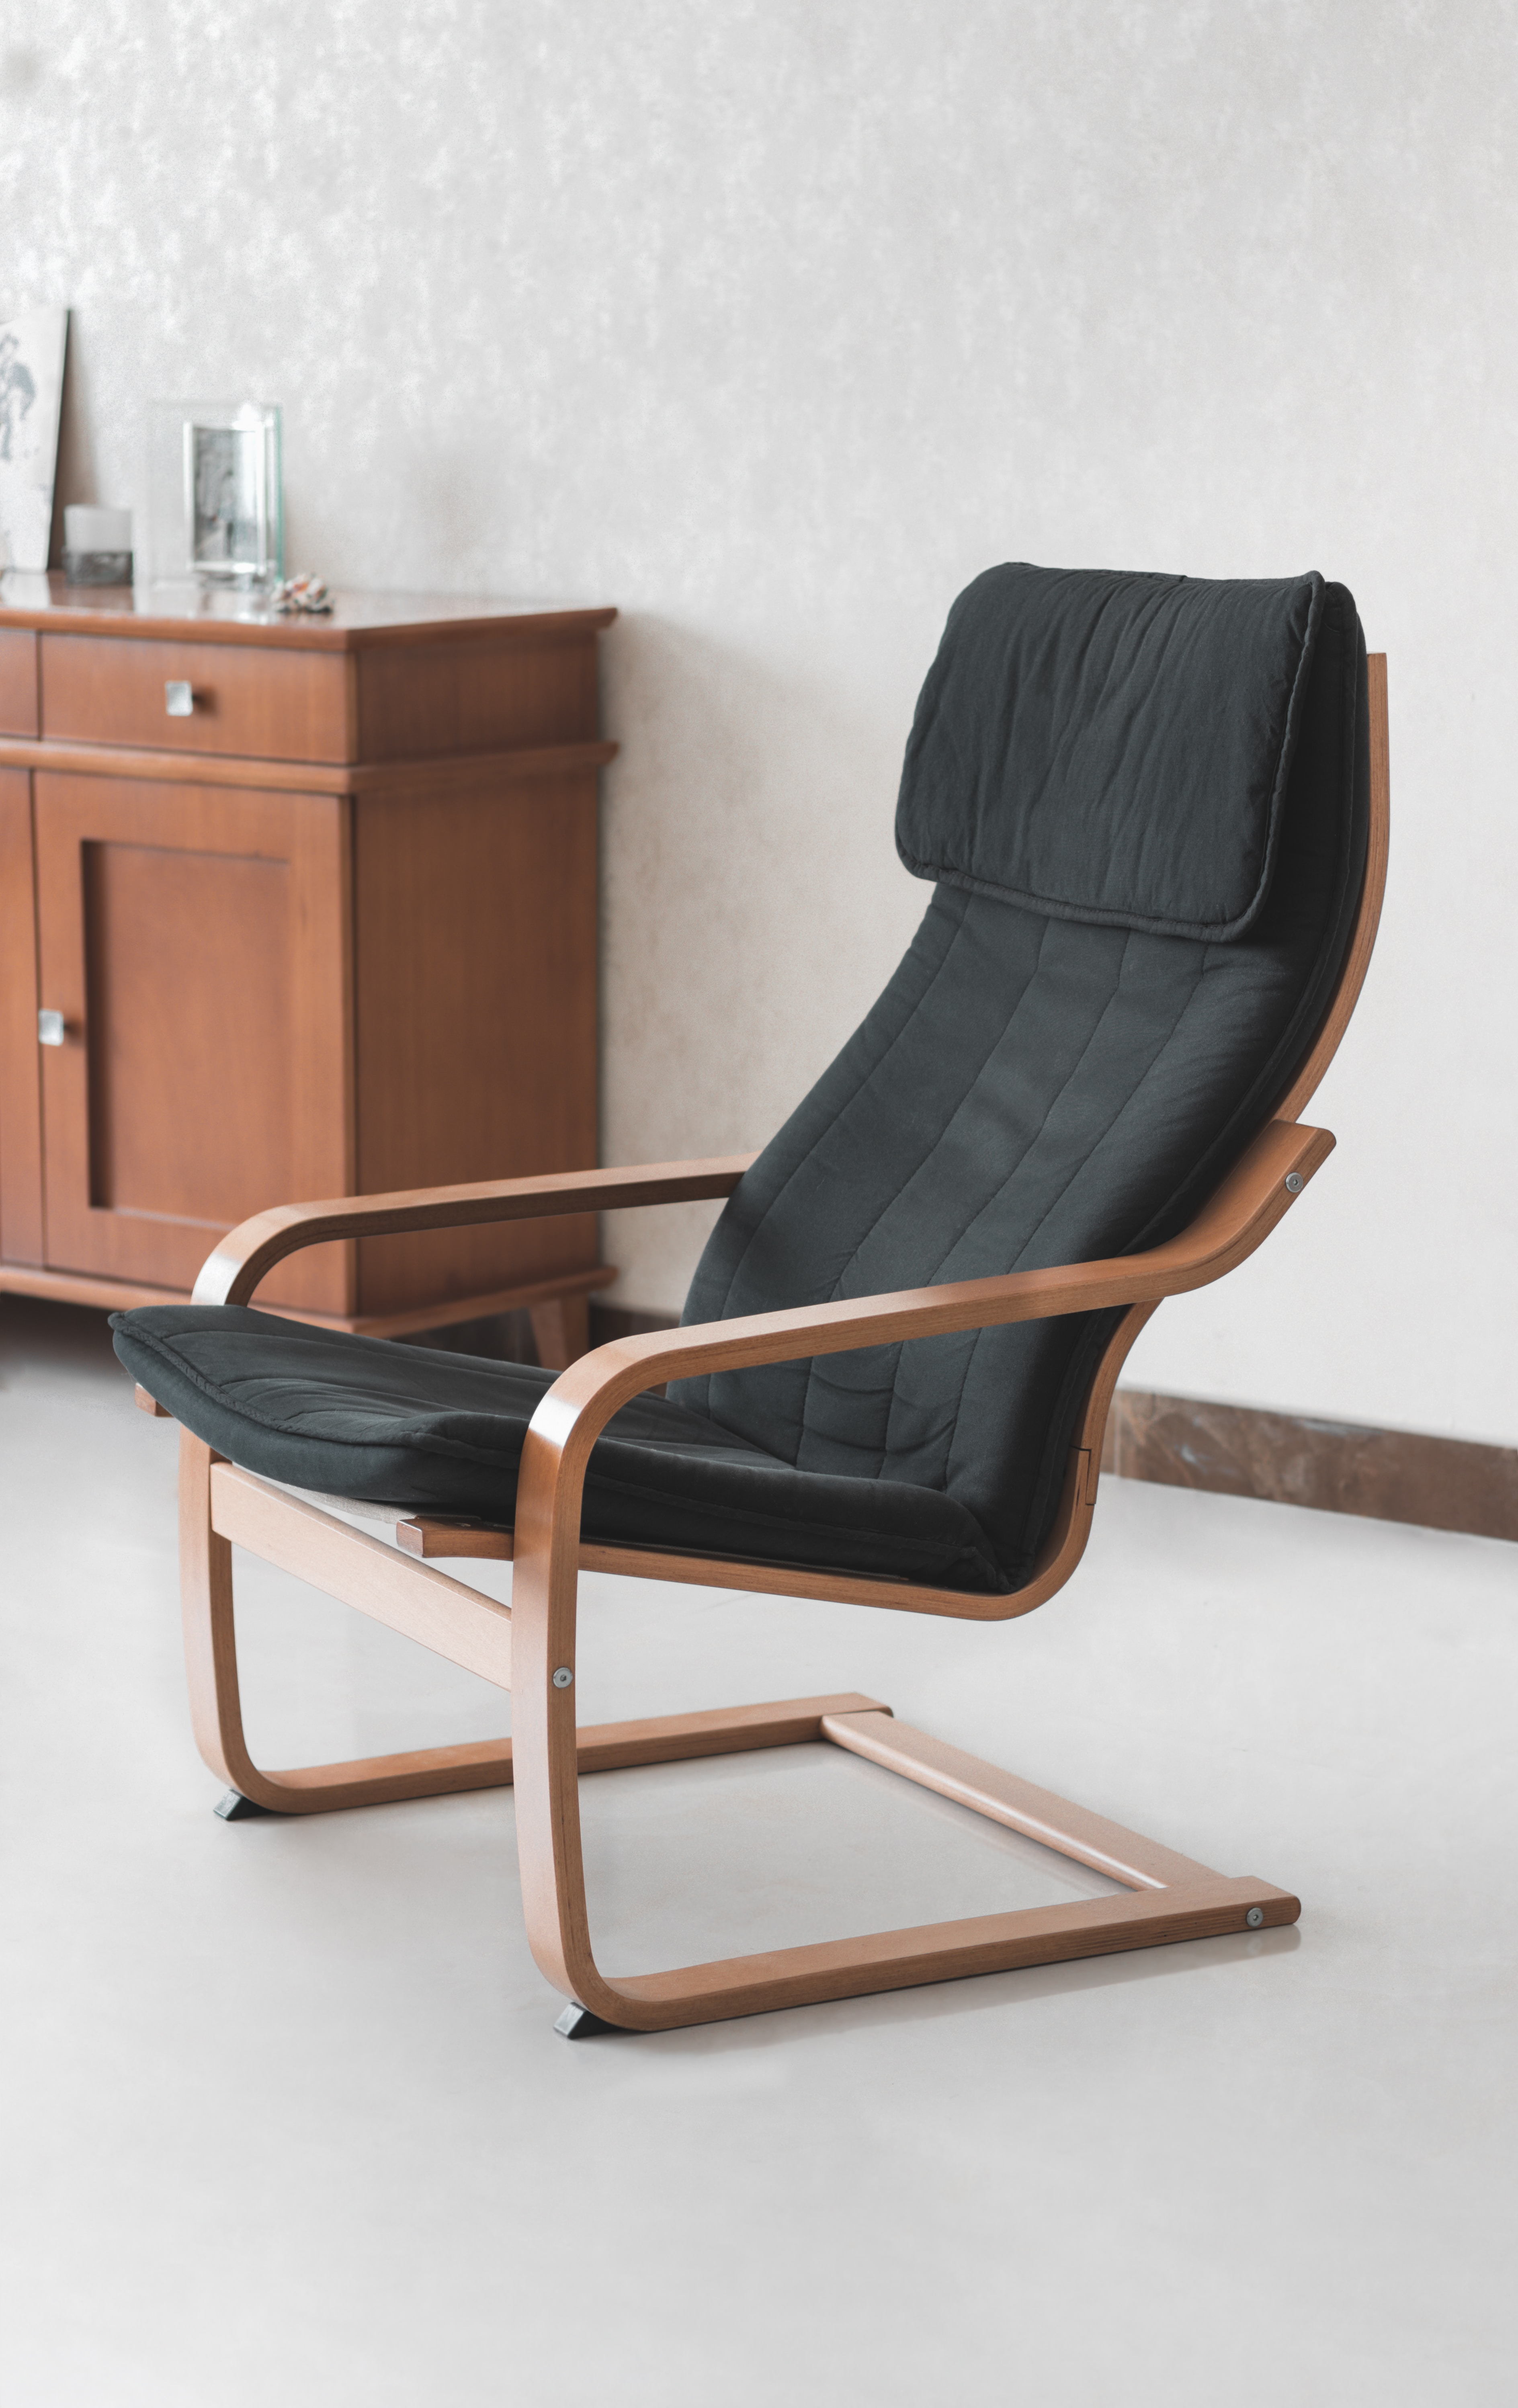Chair: (101, 526, 1394, 2057)
